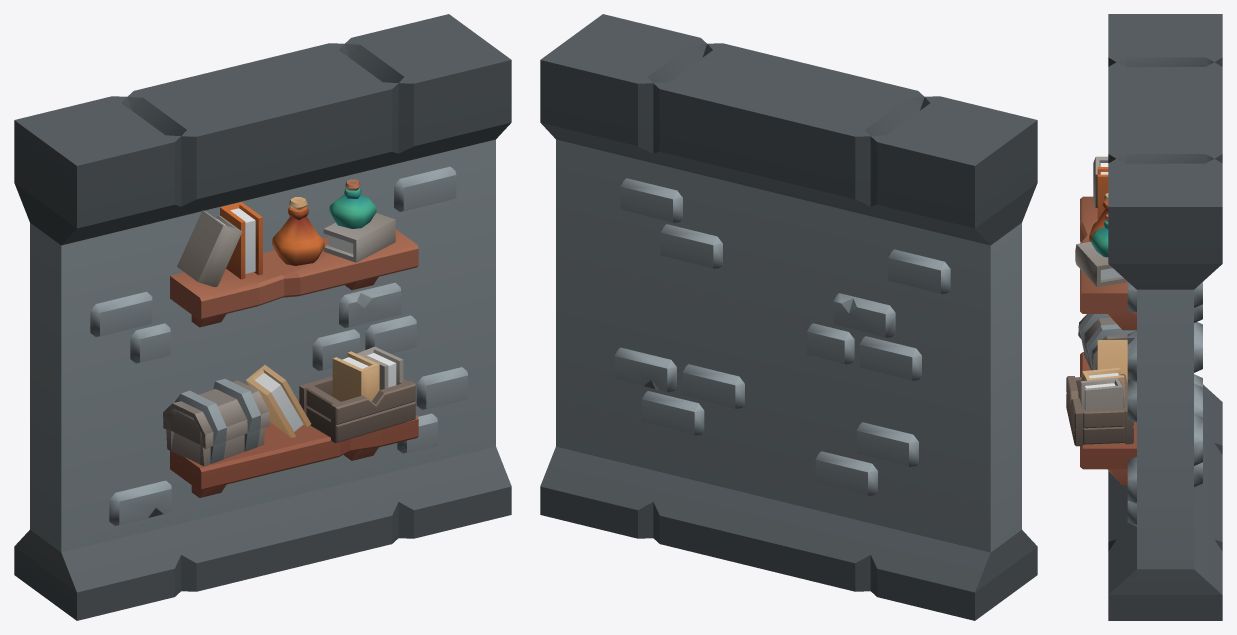
The model's file is wall_shelves.glb.
3 renders of one model, left to right at view 1: azimuth 30°, elevation 25°; view 2: azimuth 150°, elevation 25°; view 3: azimuth 270°, elevation 25°, orthographic. The views are drawn at different scales.
Parts seen in each view (by area): view 1: wall_shelves; view 2: wall_shelves; view 3: wall_shelves.
Boxes of the visible parts, left/top/right/bottom form: wall_shelves: left=14, top=14, right=511, bottom=620; wall_shelves: left=540, top=14, right=1037, bottom=620; wall_shelves: left=1066, top=14, right=1222, bottom=620.
Size of the model in its own units: 4 by 4 by 1.37.
Materials: 1 (1 with a texture image).
